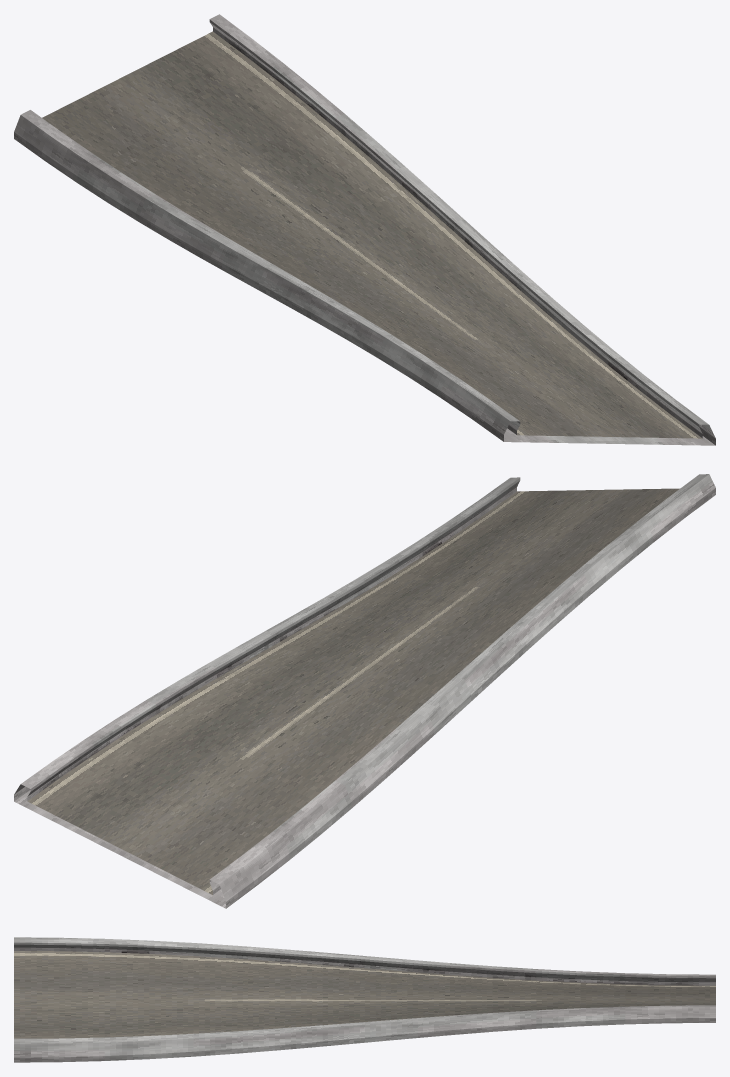
File: straight4.glb
The picture shows the model from 3 angles, top to bottom: view 1: azimuth 30°, elevation 25°; view 2: azimuth 150°, elevation 25°; view 3: azimuth 270°, elevation 25°; orthographic projection. The views are drawn at different scales.
Parts seen in each view (by area): view 1: road-Straight-HalfBankedRight-HalfBankedLeft-Even-Center-Siz; view 2: road-Straight-HalfBankedRight-HalfBankedLeft-Even-Center-Siz; view 3: road-Straight-HalfBankedRight-HalfBankedLeft-Even-Center-Siz.
Boxes of the visible parts, x1=… form: road-Straight-HalfBankedRight-HalfBankedLeft-Even-Center-Siz: x1=14, y1=14, x2=715, y2=445; road-Straight-HalfBankedRight-HalfBankedLeft-Even-Center-Siz: x1=14, y1=474, x2=715, y2=908; road-Straight-HalfBankedRight-HalfBankedLeft-Even-Center-Siz: x1=14, y1=937, x2=715, y2=1062.
Size of the model in its own units: 1 by 0.3359 by 4.
Materials: 2 (2 with a texture image).
